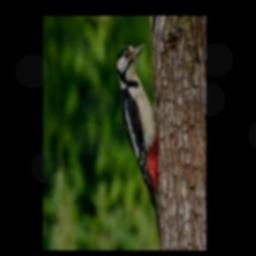Woodpecker: (116, 44, 161, 244)
